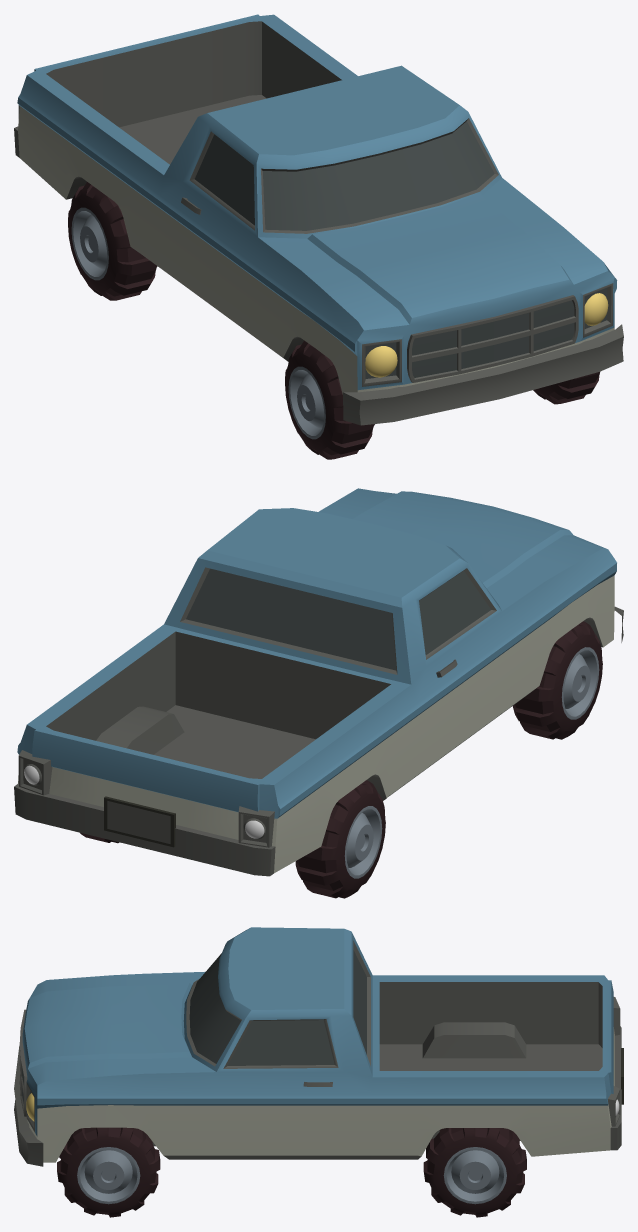
Rendered from q-pickup-truck-qn4grqghm8.glb.
3 renders of one model, top to bottom at view 1: azimuth 30°, elevation 25°; view 2: azimuth 150°, elevation 25°; view 3: azimuth 270°, elevation 25°, orthographic. The views are drawn at different scales.
Parts seen in each view (by area): view 1: Pickup, BackWheels, FrontWheel_R, FrontWheel_L; view 2: Pickup, BackWheels, FrontWheel_R; view 3: Pickup, BackWheels, FrontWheel_L.
Boxes of the visible parts, left/top/right/bottom form: Pickup: left=14, top=14, right=623, bottom=425; BackWheels: left=68, top=182, right=157, bottom=300; FrontWheel_R: left=285, top=340, right=374, bottom=459; FrontWheel_L: left=533, top=372, right=599, bottom=404; Pickup: left=14, top=488, right=623, bottom=876; BackWheels: left=80, top=780, right=385, bottom=898; FrontWheel_R: left=512, top=621, right=602, bottom=739; Pickup: left=14, top=927, right=623, bottom=1166; BackWheels: left=423, top=1128, right=526, bottom=1217; FrontWheel_L: left=57, top=1127, right=160, bottom=1217.
Bounding box in the file's own units: 2.31 × 1.85 × 5.18.
3 materials, 1 textured.
